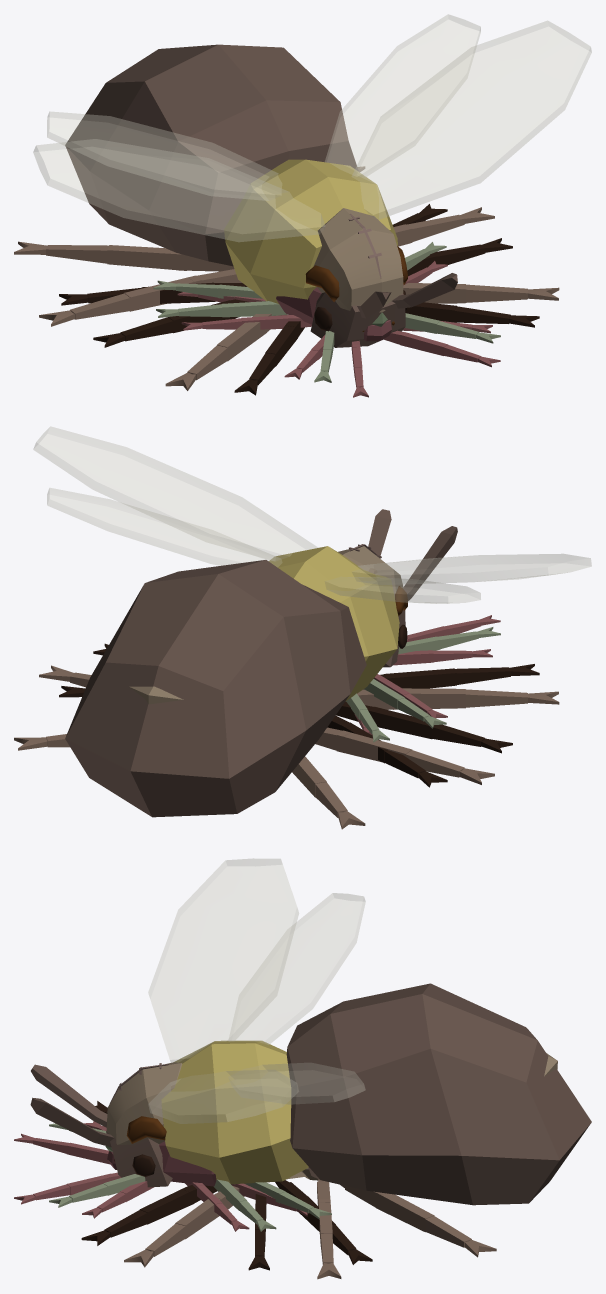
Rendered from bugsdraft.fbx.
The picture shows the model from 3 angles, top to bottom: view 1: azimuth 30°, elevation 25°; view 2: azimuth 150°, elevation 25°; view 3: azimuth 270°, elevation 25°; orthographic projection. The views are drawn at different scales.
Visible parts, largest first — view 1: TubeWing1 (×2), BodyPiece3, TubeWing2 (×2), BodyPiece4, Knee (×11), Shin (×8), ant_head, BodyPiece5, ConnectionPiece35 (×2), Mite_Body, HappyEye; view 2: BodyPiece3, TubeWing1 (×2), TubeWing2 (×2), BodyPiece4, Knee (×6), Shin (×6), ConnectionPiece35 (×2), ant_head, ant_butt; view 3: BodyPiece3, TubeWing1 (×2), BodyPiece4, TubeWing2 (×2), ant_head, Knee (×3), ConnectionPiece35 (×2), Shin (×3), BodyPiece5, Mite_Body, HappyEye.
Boxes of the visible parts, x1,y1,x2,y2 form: TubeWing1 (×2): [33, 20, 591, 241]; BodyPiece3: [65, 44, 358, 266]; TubeWing2 (×2): [47, 14, 480, 200]; BodyPiece4: [224, 159, 397, 304]; Knee (×11): [107, 245, 465, 365]; Shin (×8): [46, 214, 527, 380]; ant_head: [313, 208, 403, 312]; BodyPiece5: [310, 292, 405, 347]; ConnectionPiece35 (×2): [357, 273, 457, 318]; Mite_Body: [276, 287, 391, 341]; HappyEye: [305, 265, 339, 301]; BodyPiece3: [65, 560, 366, 817]; TubeWing1 (×2): [33, 426, 591, 584]; TubeWing2 (×2): [47, 488, 480, 603]; BodyPiece4: [269, 546, 399, 701]; Knee (×6): [292, 668, 465, 797]; Shin (×6): [315, 667, 527, 817]; ConnectionPiece35 (×2): [368, 509, 457, 600]; ant_head: [338, 546, 403, 597]; ant_butt: [129, 686, 183, 704]; BodyPiece3: [286, 983, 591, 1205]; TubeWing1 (×2): [148, 858, 298, 1123]; BodyPiece4: [161, 1040, 308, 1184]; TubeWing2 (×2): [228, 893, 365, 1104]; ant_head: [106, 1062, 182, 1144]; Knee (×3): [139, 1187, 434, 1239]; ConnectionPiece35 (×2): [30, 1064, 113, 1147]; Shin (×3): [104, 1210, 471, 1256]; BodyPiece5: [106, 1131, 172, 1187]; Mite_Body: [107, 1141, 231, 1186]; HappyEye: [126, 1116, 166, 1143].
Size of the model in its own units: 6.89 by 2.58 by 6.57.
